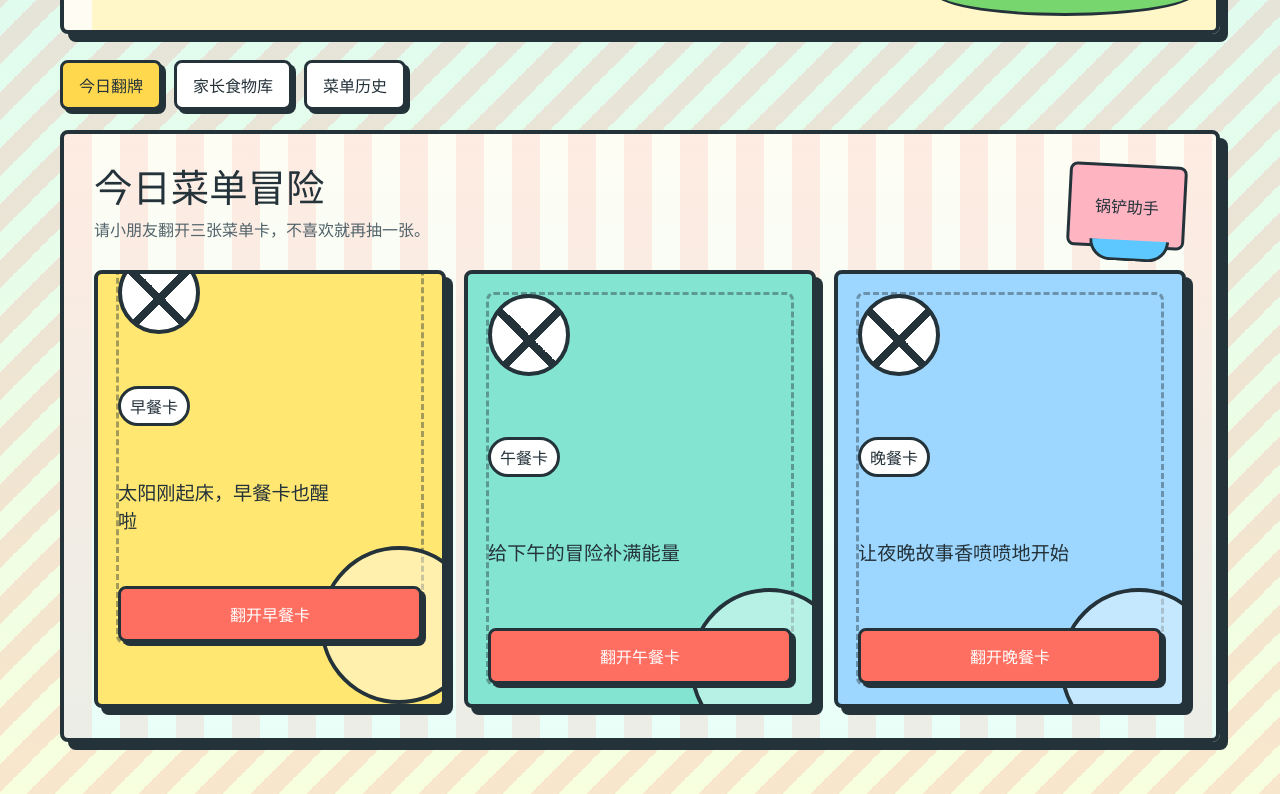
it: App › celebrates when all three cards are confirmed
(page scrolled)
Step 1. Click the button "翻开早餐卡" → {"x": 270, "y": 614}, box [118,586,422,642]
(page scrolled)
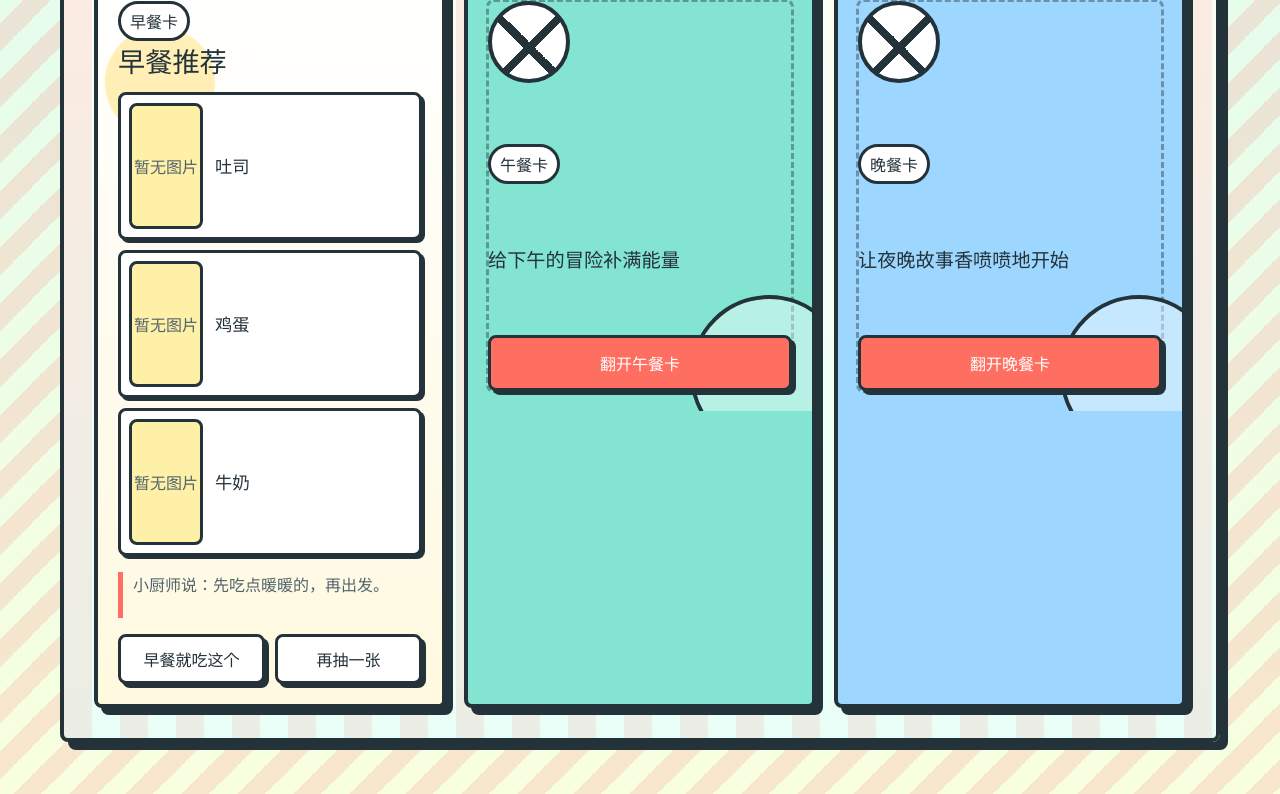
Step 2. Click the button "早餐就吃这个" → {"x": 192, "y": 659}, box [118,634,265,684]
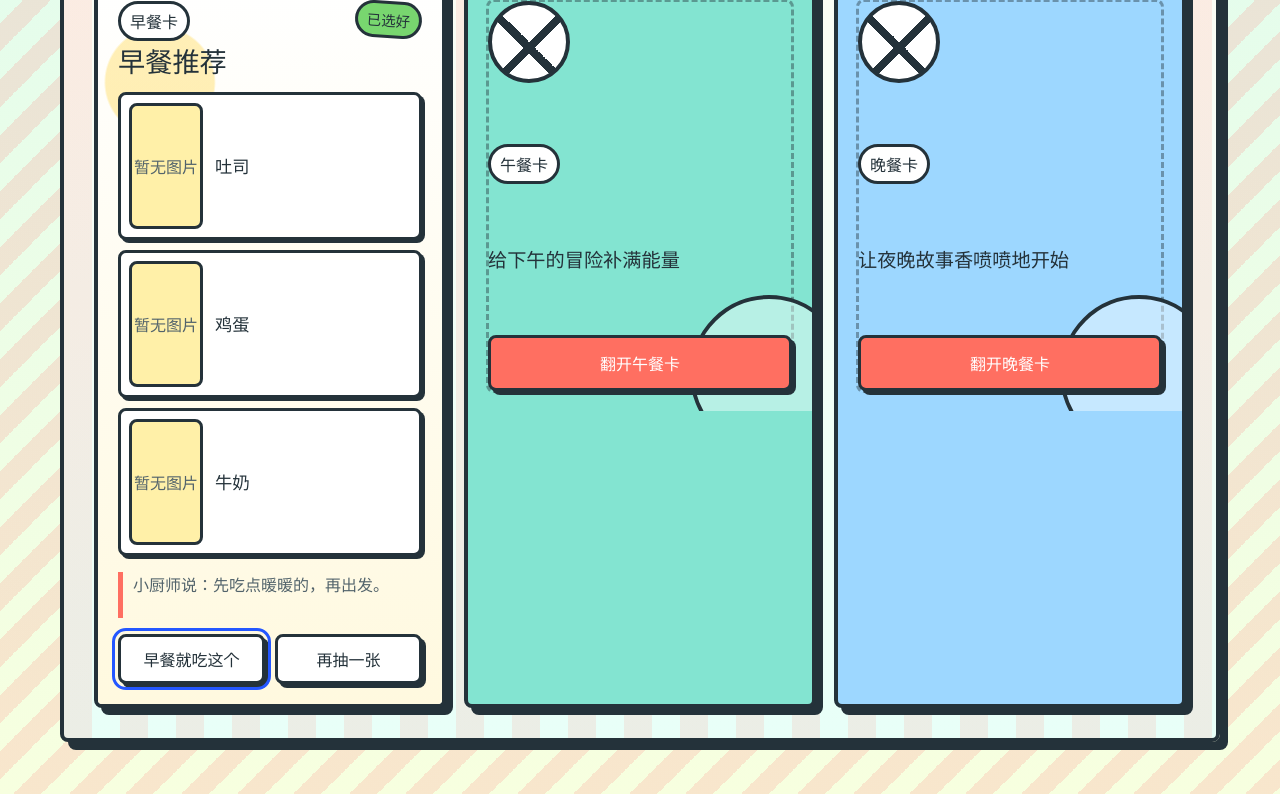
Step 3. Click the button "翻开午餐卡" → {"x": 640, "y": 362}, box [488,334,792,390]
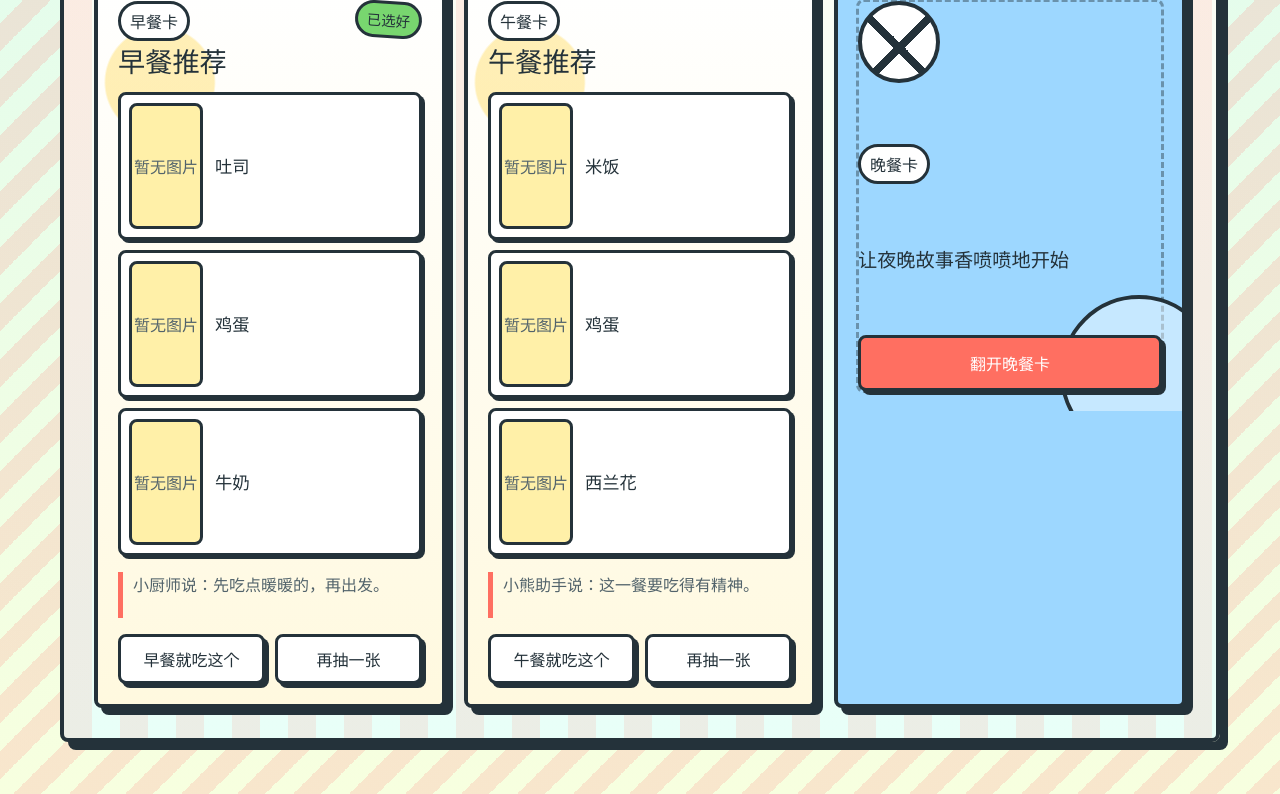
Step 4. Click the button "午餐就吃这个" → {"x": 562, "y": 659}, box [488,634,635,684]
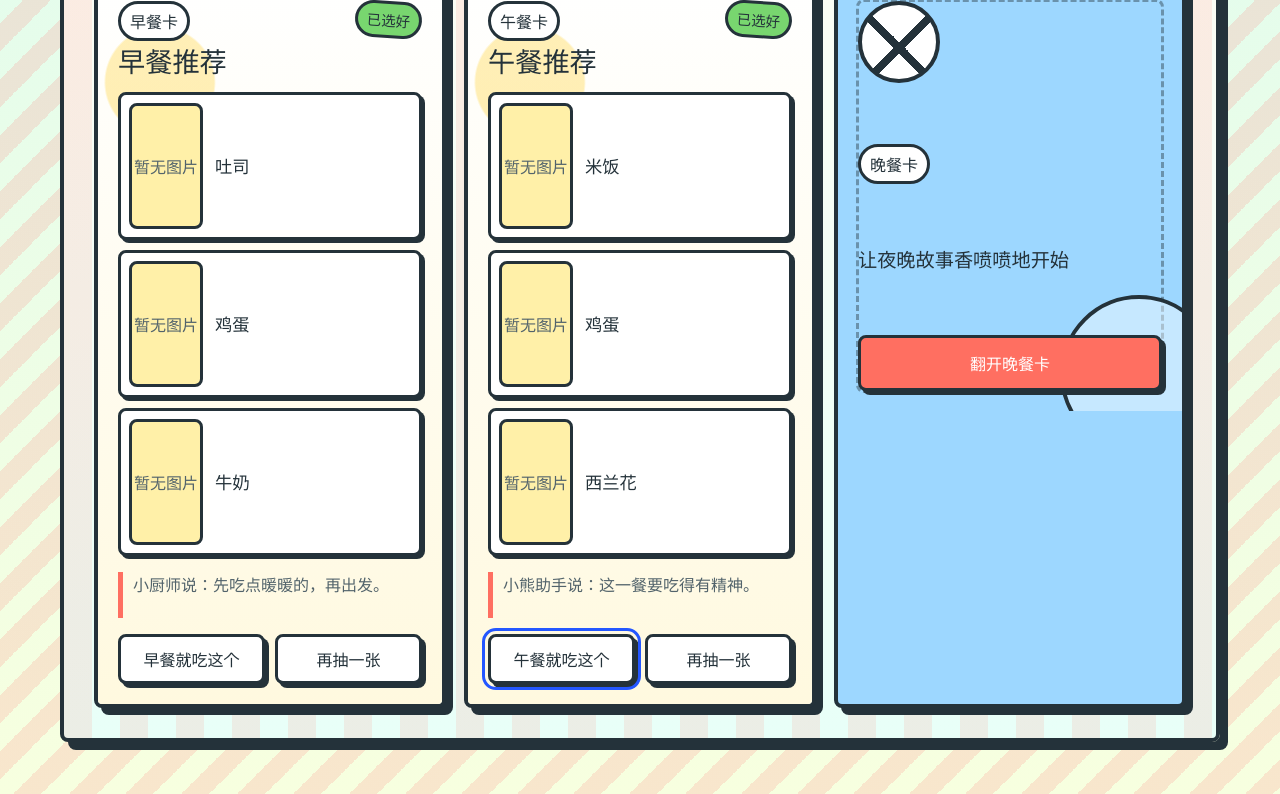
Step 5. Click the button "翻开晚餐卡" → {"x": 1010, "y": 362}, box [858,334,1162,390]
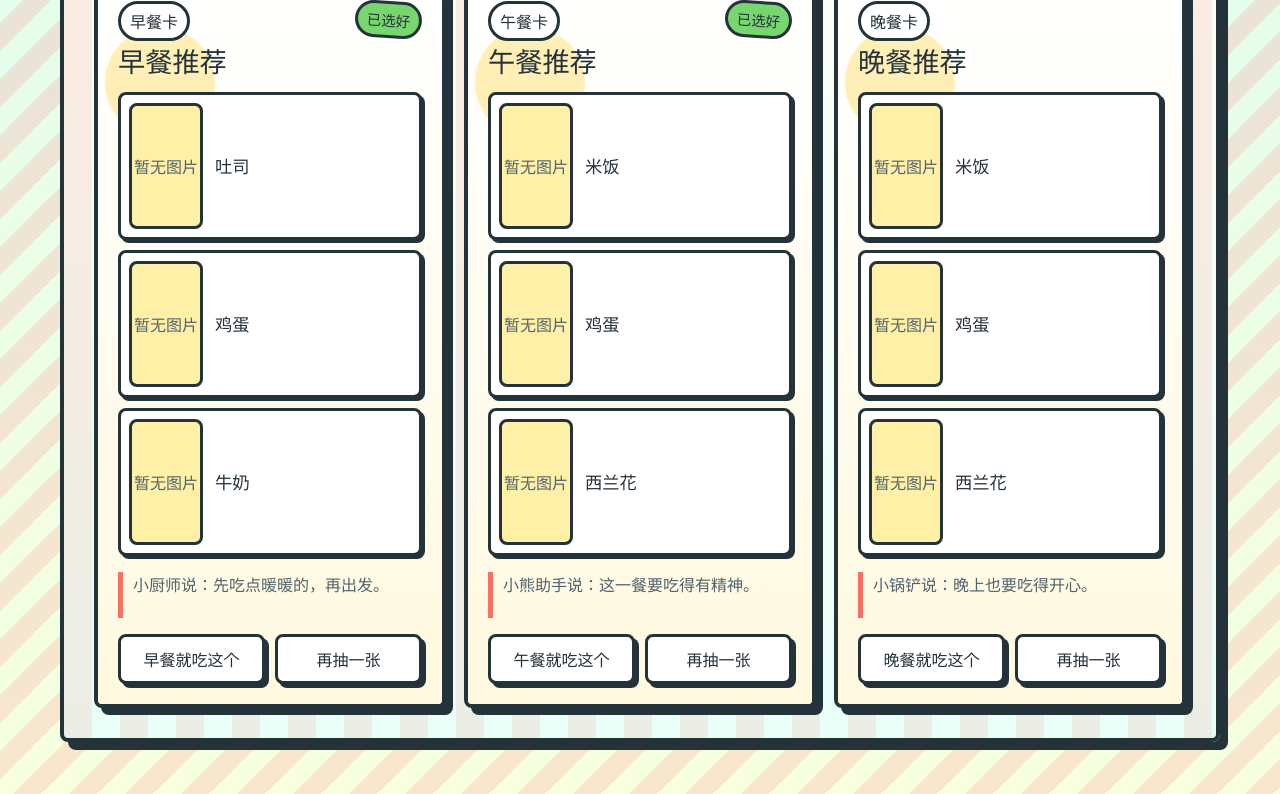
Step 6. Click the button "晚餐就吃这个" → {"x": 932, "y": 659}, box [858,634,1005,684]
(page scrolled)
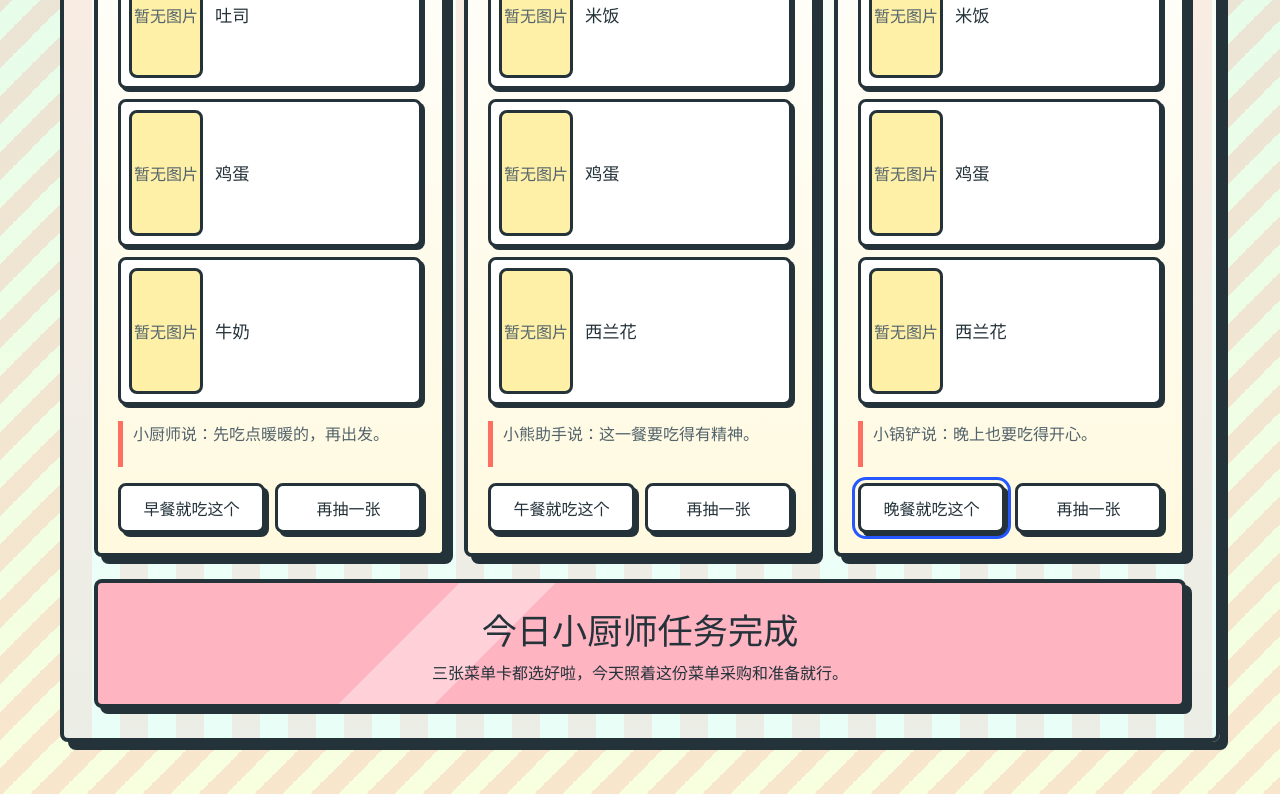
expect the text "今日小厨师任务完成" is shown: met, box [482,612,798,651]
expect the text "三张菜单卡都选好啦，今天照着这份菜单采购和准备就行。" is shown: met, box [432,665,848,682]
